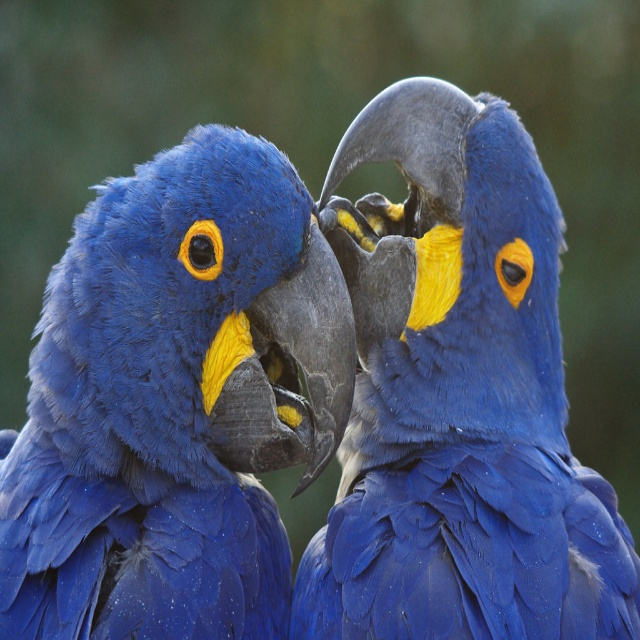Parrot: (0, 119, 363, 639), (312, 71, 638, 634)
